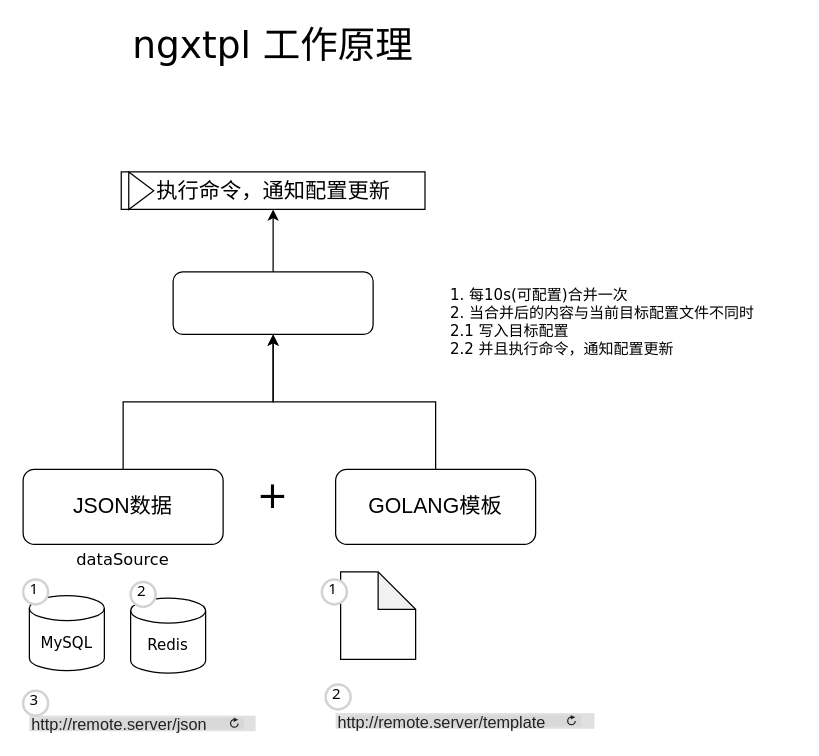
This 819x756 diagram has some shape labels left out. Each missing label, with the centre of its shape:
文件: (377,615)
目标配置文件: (272,302)
